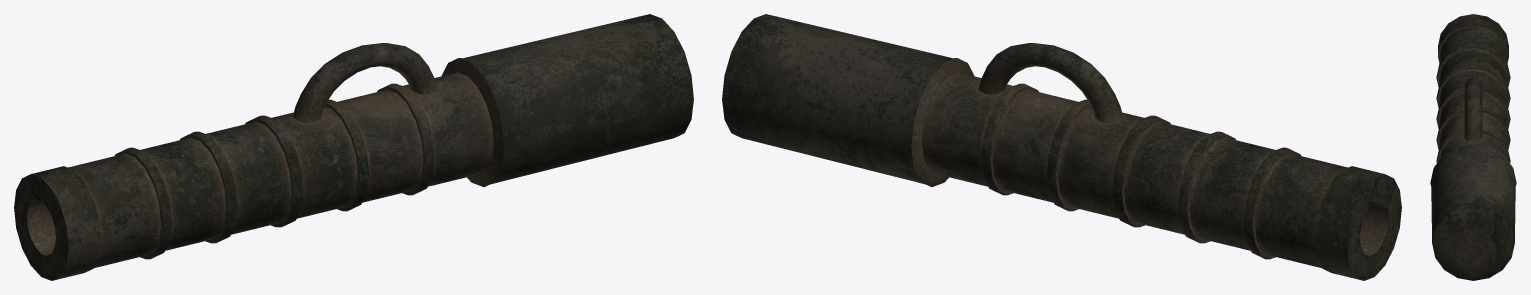
Rendered from SM_Hwangja_Chongtong_Gun.fbx.
3 renders of one model, left to right at view 1: azimuth 30°, elevation 25°; view 2: azimuth 150°, elevation 25°; view 3: azimuth 270°, elevation 25°, orthographic. The views are drawn at different scales.
Visible parts, largest first — view 1: SM_Hwangja_Chongtong_Gun; view 2: SM_Hwangja_Chongtong_Gun; view 3: SM_Hwangja_Chongtong_Gun.
Part boxes in pixels (x1=…): SM_Hwangja_Chongtong_Gun: x1=14, y1=14, x2=693, y2=280; SM_Hwangja_Chongtong_Gun: x1=722, y1=14, x2=1401, y2=280; SM_Hwangja_Chongtong_Gun: x1=1430, y1=14, x2=1516, y2=280.
Size of the model in its own units: 50.4 by 9.23 by 12.5.
Materials: 1 (1 with a texture image).
